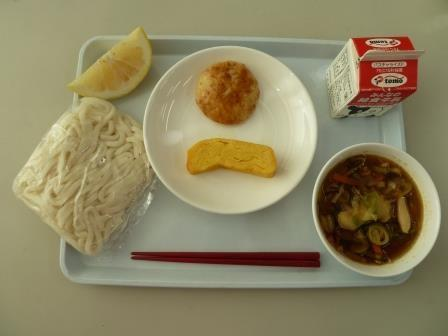Bread: (177, 127, 293, 194)
Citrus: (59, 30, 162, 101)
Milk: (328, 32, 428, 134)
Soups: (303, 145, 442, 269)
Udon: (7, 98, 171, 250)
cutlet: (187, 56, 271, 125)
